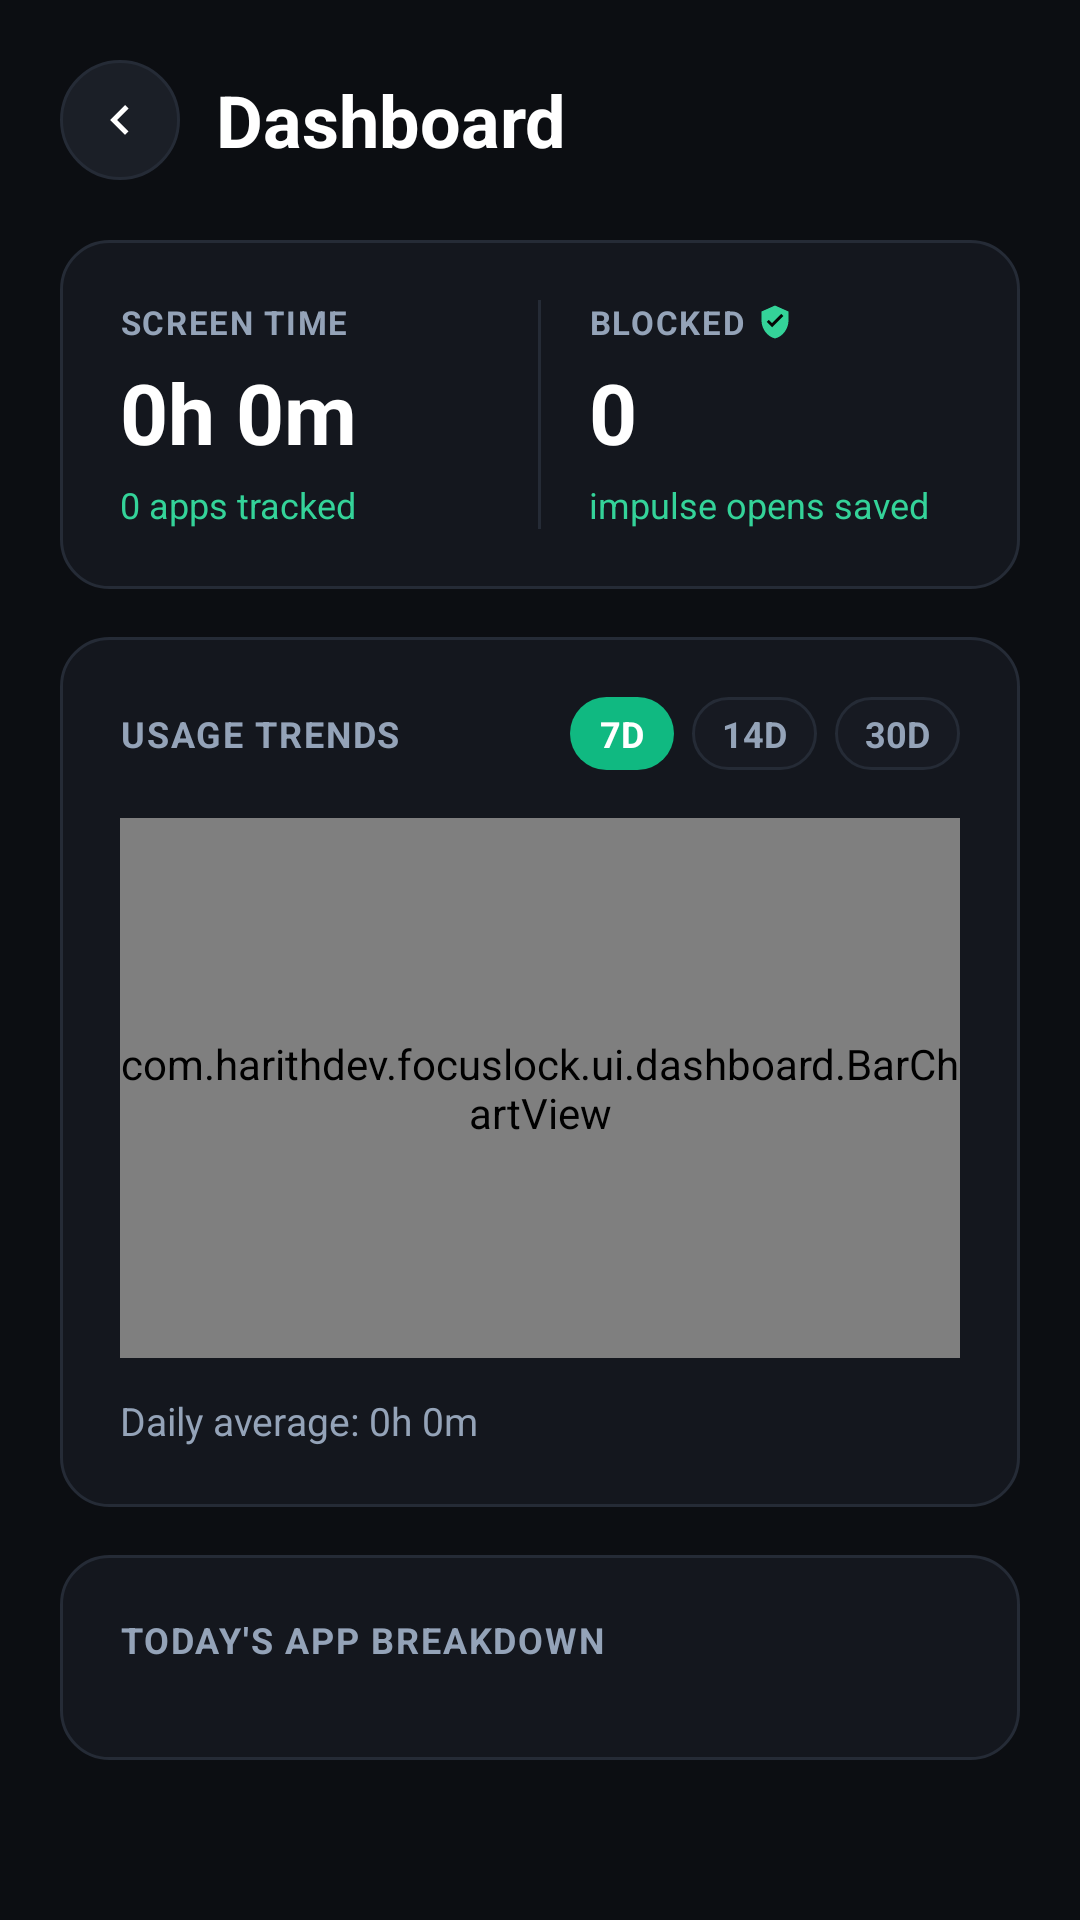

Where to tap for icons on this 1080×1920 app screen, as point (x, y):
chevron left: point (120, 120)
security shield: point (775, 322)
